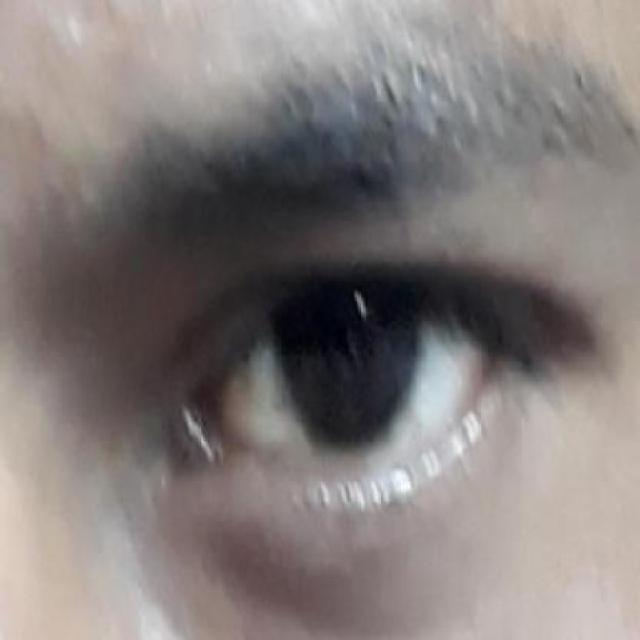awake: (175, 264, 507, 536)
